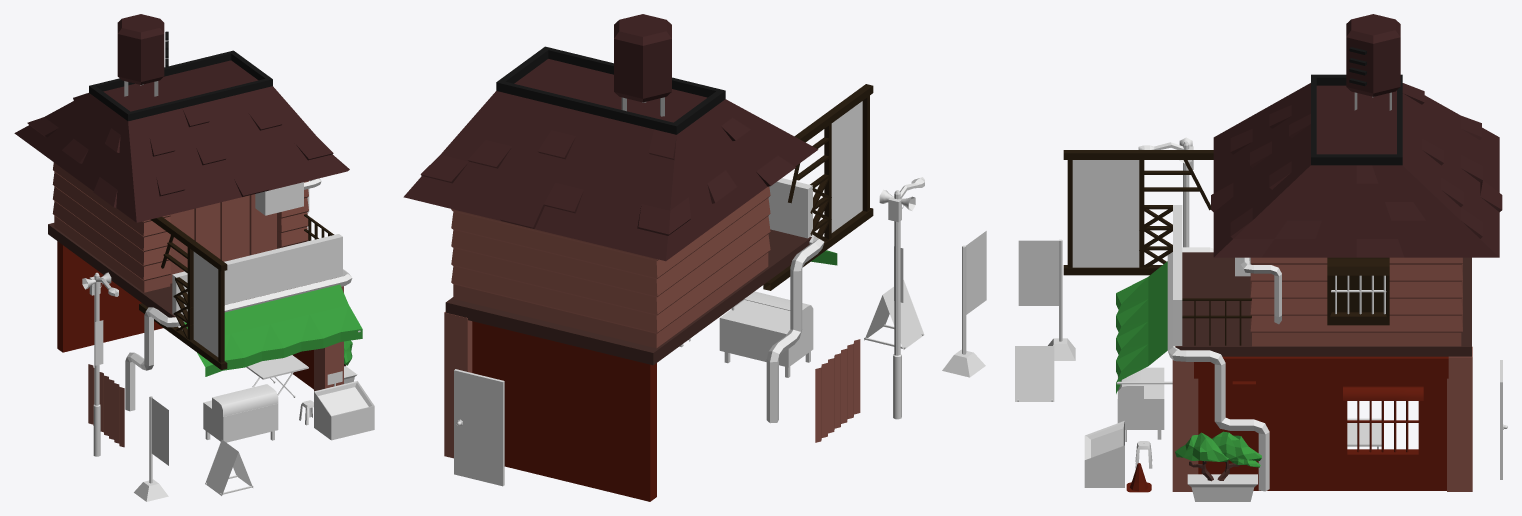
Rendered from House0529.FBX.
3 renders of one model, left to right at view 1: azimuth 30°, elevation 25°; view 2: azimuth 150°, elevation 25°; view 3: azimuth 270°, elevation 25°, orthographic. The views are drawn at different scales.
Parts seen in each view (by area): view 1: Roof, 2F, Plane003, Object002, Box002, Object005, Box022, Water tower, Iron sheet (×2), Cylinder007, Box024, Plane004 (+8 smaller); view 2: Roof, 2F, Box002, Box004, Box022, Iron sheet (×2), Box021, Object005, Water tower, Plane004, Cylinder007, Box013 (+4 smaller); view 3: Roof, Box001, 2F, Box004, Plane004, Object005, Plane003, Box022, Water tower, Cylinder007, Object008, Box013 (+12 smaller).
Boxes of the visible parts, box(x1,y1,x2,y2) form: Roof: box(14, 50, 349, 222); 2F: box(52, 162, 308, 292); Plane003: box(184, 284, 362, 376); Object002: box(172, 234, 342, 315); Box002: box(57, 241, 163, 352); Object005: box(139, 217, 227, 369); Box022: box(203, 371, 342, 495); Water tower: box(117, 14, 168, 96); Iron sheet (×2): box(82, 272, 124, 456); Cylinder007: box(125, 178, 352, 411); Box024: box(314, 381, 374, 440); Plane004: box(193, 251, 218, 356); Roof: box(403, 46, 818, 261); 2F: box(451, 186, 770, 348); Box002: box(472, 321, 656, 501); Box004: box(445, 229, 811, 365); Box022: box(719, 280, 924, 377); Iron sheet (×2): box(815, 177, 924, 442); Box021: box(454, 369, 504, 486); Object005: box(763, 84, 873, 290); Water tower: box(614, 14, 671, 116); Plane004: box(831, 101, 862, 232); Cylinder007: box(766, 235, 824, 423); Box013: box(444, 312, 472, 458); Roof: box(1211, 74, 1502, 257); Box001: box(1194, 356, 1448, 490); 2F: box(1250, 257, 1462, 346); Box004: box(1175, 252, 1471, 356); Plane004: box(1072, 160, 1139, 267); Object005: box(1063, 150, 1213, 275); Plane003: box(1116, 261, 1167, 393); Box022: box(1015, 346, 1164, 441); Water tower: box(1346, 14, 1400, 110); Cylinder007: box(1167, 247, 1281, 491); Object008: box(1327, 257, 1389, 325); Box013: box(1447, 346, 1472, 491).
Size of the model in its own units: 880 by 1042 by 1162.
